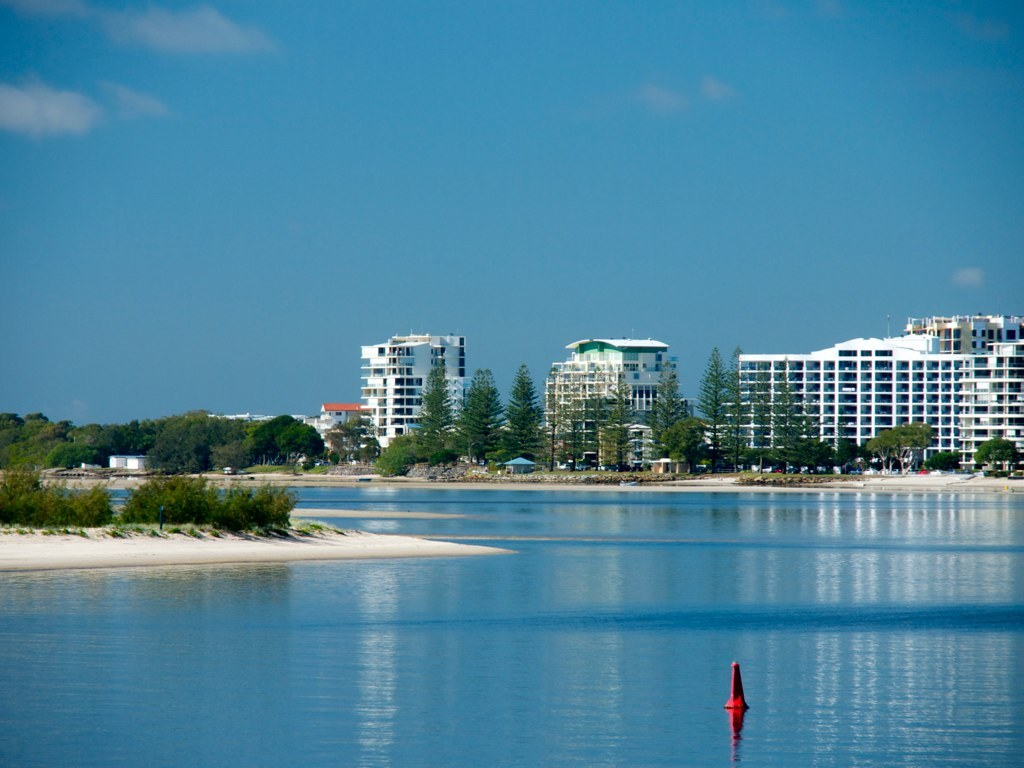Tree: (234, 410, 321, 483), (490, 376, 547, 471), (140, 410, 206, 492), (696, 350, 739, 474), (547, 381, 606, 469), (401, 381, 453, 471), (766, 385, 805, 491), (862, 422, 935, 478), (0, 396, 58, 464), (592, 385, 629, 487), (453, 372, 492, 468), (663, 359, 689, 468), (360, 430, 417, 472), (92, 419, 145, 459), (35, 445, 99, 477), (746, 398, 766, 495), (794, 436, 842, 471), (977, 433, 1020, 471), (730, 372, 743, 472)
